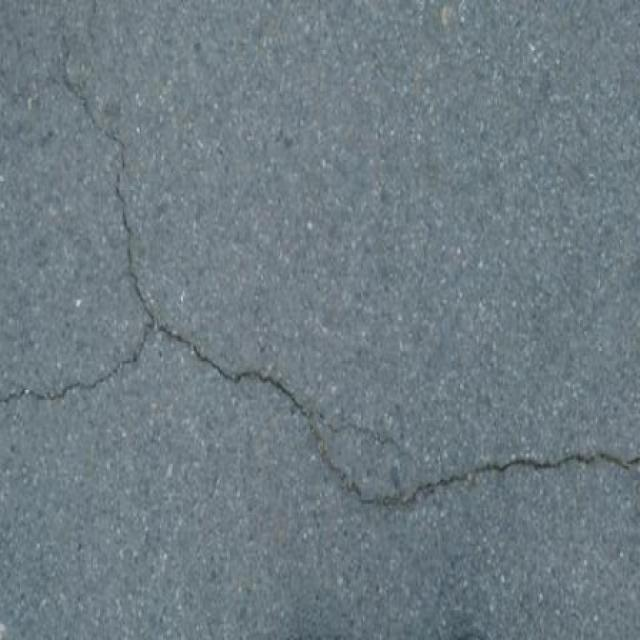diagonal crack: (44, 23, 629, 521), (3, 313, 170, 433)
